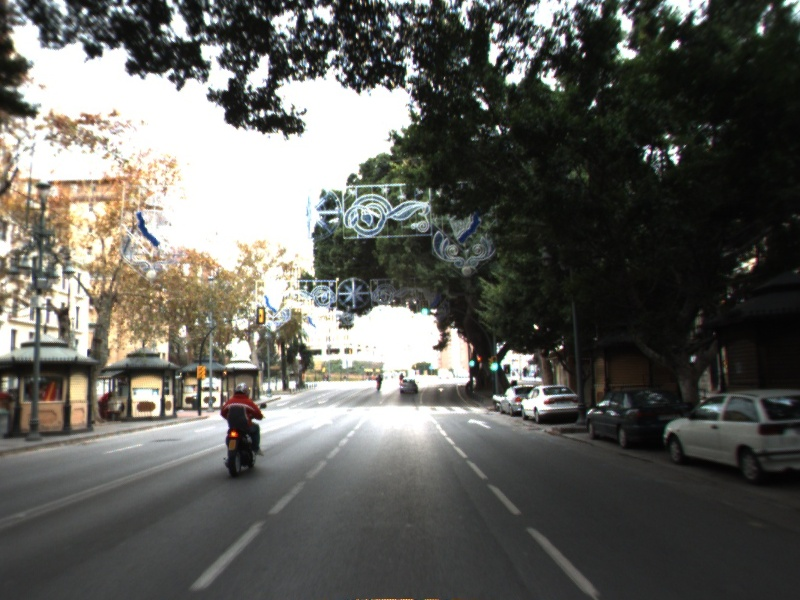STRAIGHT: (465, 416, 495, 431)
